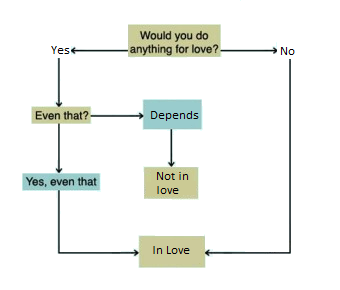arrow: (204, 58, 292, 256), (56, 188, 140, 258), (69, 45, 131, 55), (53, 122, 64, 173), (219, 46, 278, 54), (54, 55, 63, 107), (89, 112, 145, 120), (167, 129, 176, 167)
process: (126, 23, 223, 59), (137, 234, 207, 269), (140, 97, 205, 131), (142, 165, 200, 201), (21, 172, 103, 192), (29, 104, 92, 125)
text: (130, 29, 220, 55), (155, 170, 191, 195), (24, 175, 99, 187), (34, 108, 89, 121), (149, 109, 200, 122), (150, 243, 191, 256), (49, 43, 73, 56), (278, 44, 295, 56)
